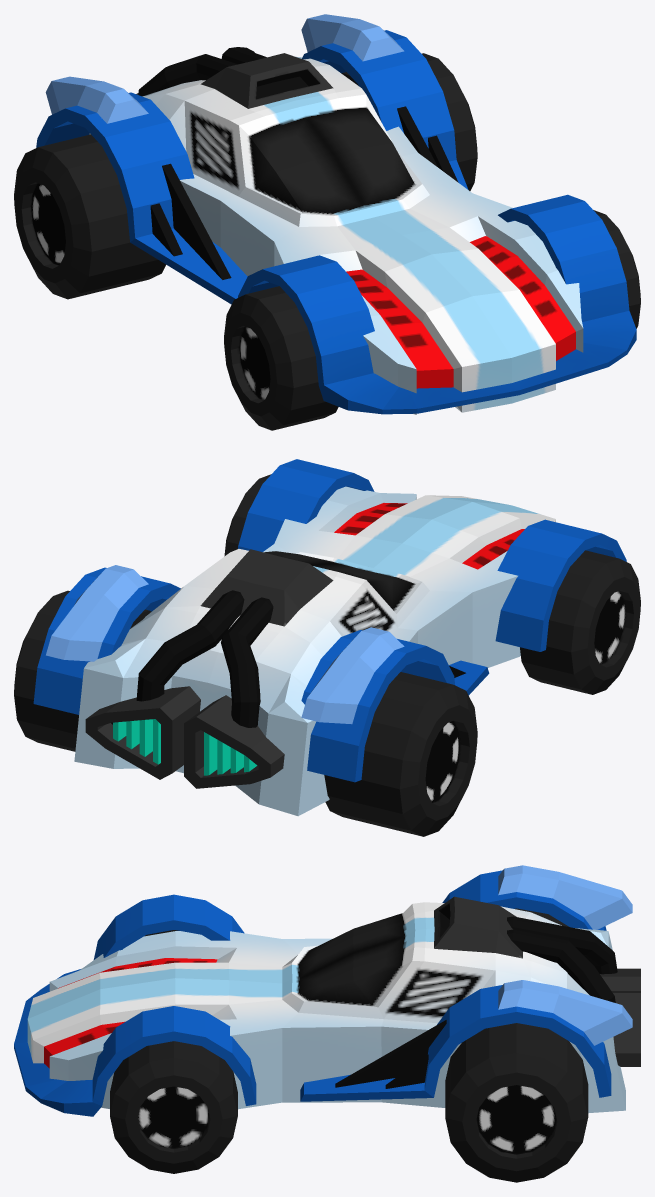
Rendered from tiny-racer-8.glb.
3 renders of one model, top to bottom at view 1: azimuth 30°, elevation 25°; view 2: azimuth 150°, elevation 25°; view 3: azimuth 270°, elevation 25°, orthographic. The views are drawn at different scales.
Visible parts, largest first — view 1: Cube.212, Cylinder.243, Cylinder.244, wheel_2, wheel_3, Cube.209, wheel_0, Plane.043, wheel_1; view 2: Cube.212, Cylinder.243, wheel_2, Cylinder.244, wheel_3, Cube.210, Plane.043, wheel_0, Cube.211, wheel_1; view 3: Cube.212, Cylinder.243, wheel_0, Cylinder.244, wheel_1, Plane.043, Cube.209, Cube.210.
Part boxes in pixels (box(x1,y1,x2,y2)): Cube.212: box(89, 53, 583, 414); Cylinder.243: box(36, 14, 468, 304); Cylinder.244: box(238, 194, 636, 414); wheel_2: box(14, 134, 165, 299); wheel_3: box(224, 286, 338, 430); Cube.209: box(150, 106, 458, 279); wheel_0: box(341, 53, 477, 190); Plane.043: box(138, 47, 266, 96); wheel_1: box(593, 210, 640, 328); Cube.212: box(74, 486, 555, 816); Cylinder.243: box(33, 565, 489, 782); wheel_2: box(324, 672, 477, 836); Cylinder.244: box(238, 459, 626, 651); wheel_3: box(520, 550, 640, 694); Cube.210: box(85, 686, 284, 788); Plane.043: box(136, 590, 273, 727); wheel_0: box(14, 590, 151, 751); Cube.211: box(113, 719, 257, 775); wheel_1: box(224, 474, 271, 556); Cube.212: box(27, 896, 625, 1113); Cylinder.243: box(300, 865, 632, 1101); wheel_0: box(445, 1023, 588, 1182); Cylinder.244: box(14, 894, 256, 1116); wheel_1: box(110, 1041, 237, 1173); Plane.043: box(507, 916, 617, 1002); Cube.209: box(335, 1020, 446, 1088); Cube.210: box(600, 968, 640, 1066).
Bounding box in the file's own units: 0.9698 × 0.4665 × 1.42.
Materials: 1 (1 with a texture image).
